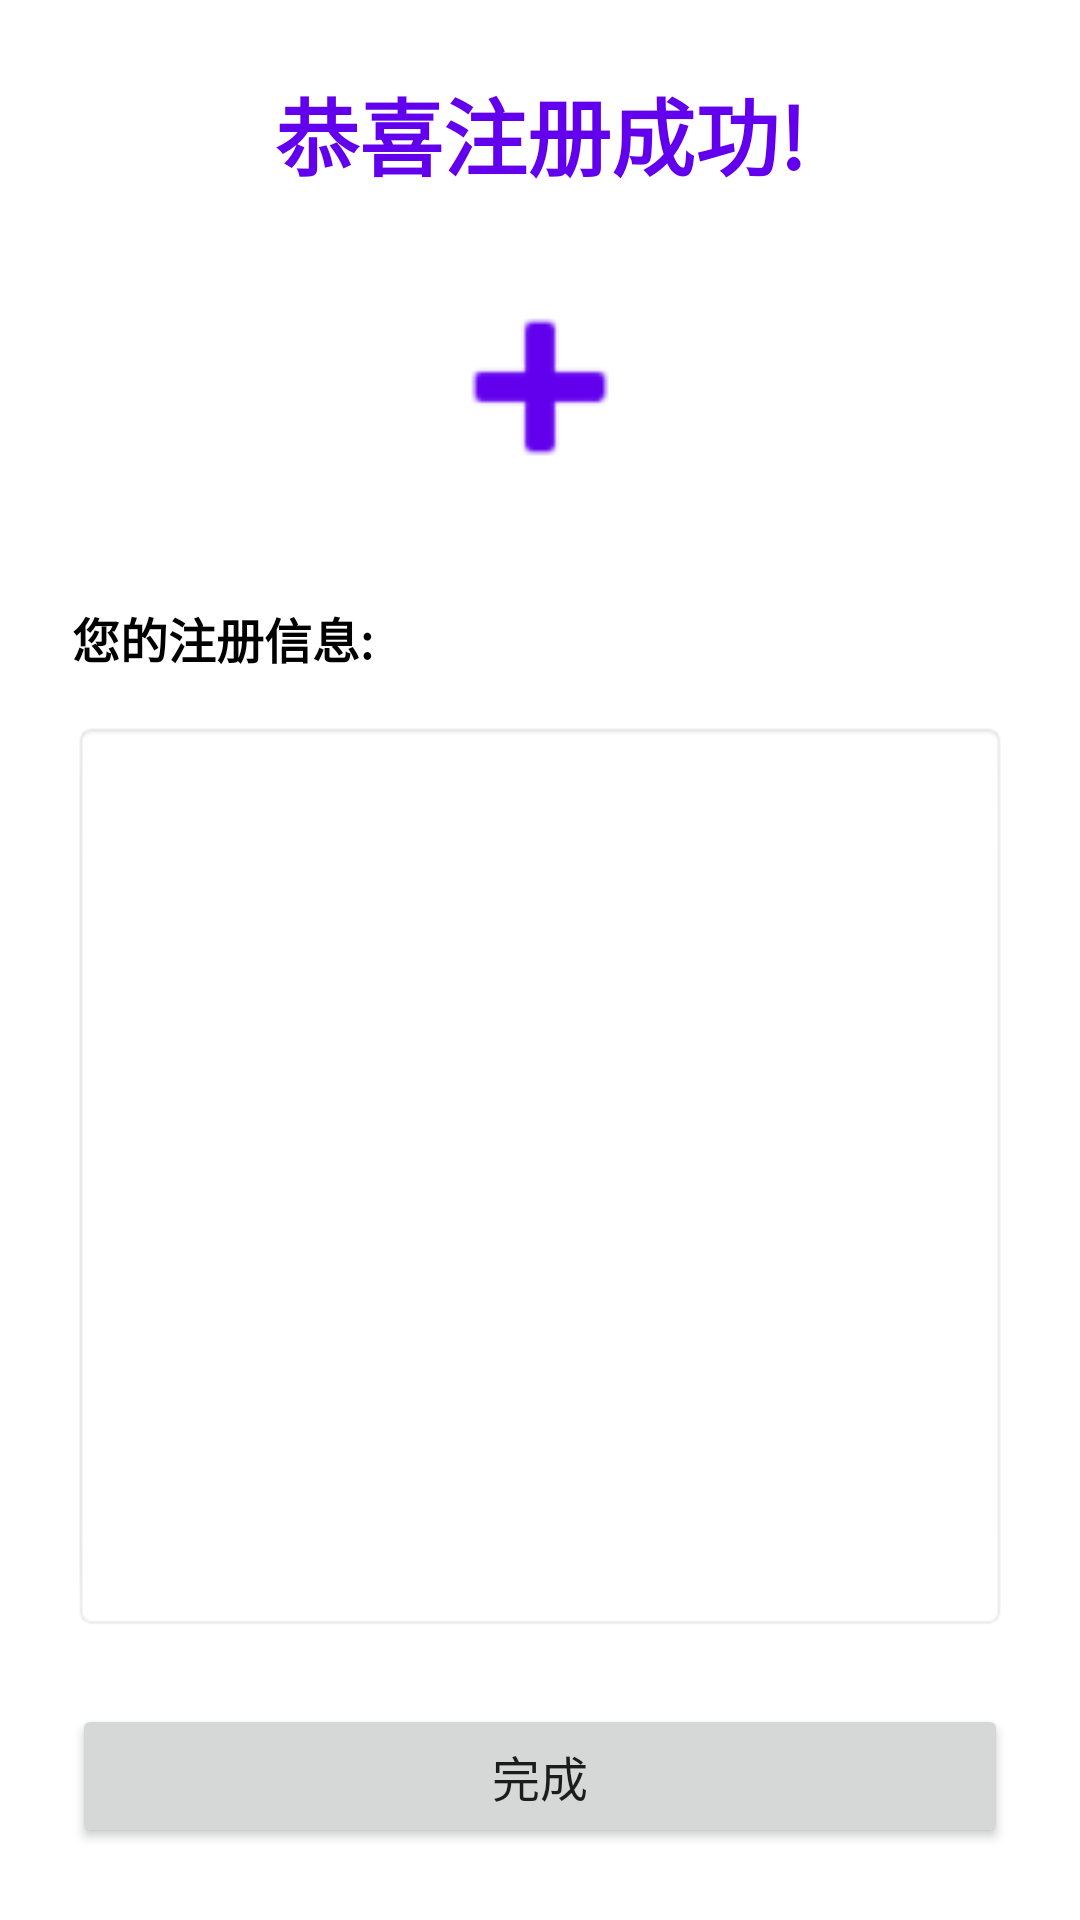

Named icons in this screenshot (1080 x 1920) and their centers, [x,y]:
add: [540,387]
